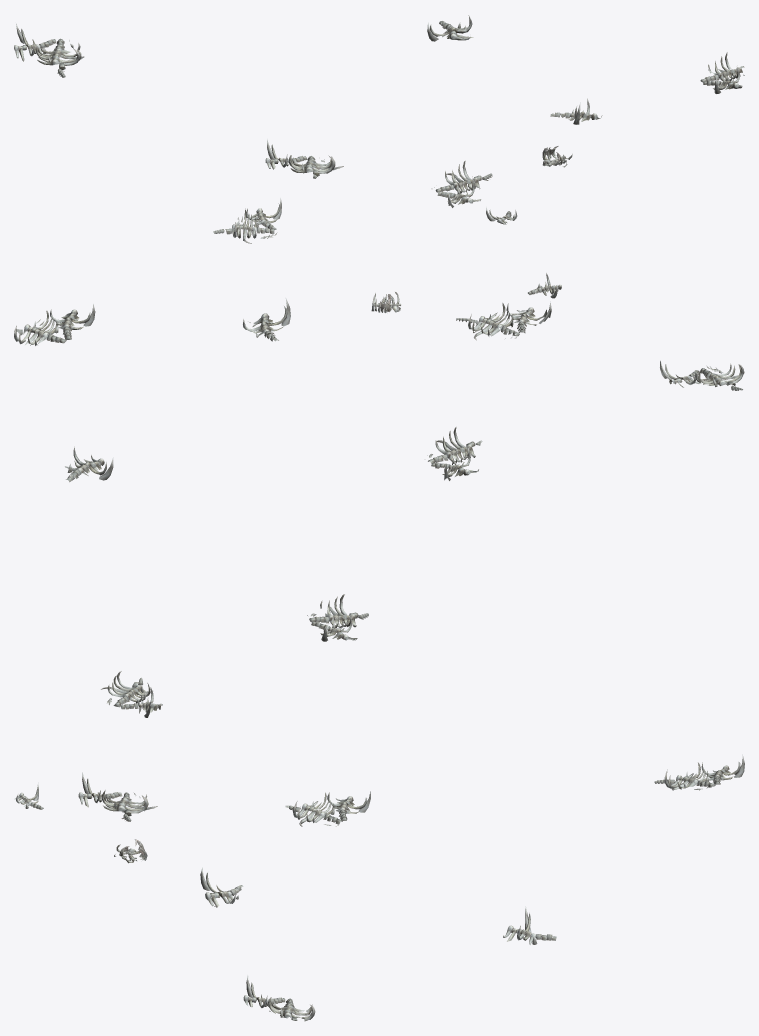
Rendered from S_Build_Snowland235_1.FBX.
3 views of the same model, one above another, from view 1: azimuth 30°, elevation 25°; view 2: azimuth 150°, elevation 25°; view 3: azimuth 270°, elevation 25° (orthographic). The views are drawn at different scales.
Visible parts, largest first — view 1: S_Build_Snowland235_005, S_Build_Snowland235_001, S_Build_Snowland235_002, S_Build_Snowland235_004, S_Build_Snowland235_003, S_Build_Snowland237_003, S_Build_Snowland237_002; view 2: S_Build_Snowland235_003, S_Build_Snowland235_002, S_Build_Snowland235_004, S_Build_Snowland235_005, S_Build_Snowland235_001, S_Build_Snowland237_003, S_Build_Snowland237_002; view 3: S_Build_Snowland235_004, S_Build_Snowland235_002, S_Build_Snowland235_005, S_Build_Snowland235_001, S_Build_Snowland235_003, S_Build_Snowland237_002, S_Build_Snowland237_003.
Part boxes in pixels (<box>): S_Build_Snowland235_005: <box>14,23,84,77</box>; S_Build_Snowland235_001: <box>213,198,281,243</box>; S_Build_Snowland235_002: <box>431,160,492,207</box>; S_Build_Snowland235_004: <box>265,139,343,178</box>; S_Build_Snowland235_003: <box>700,52,744,93</box>; S_Build_Snowland237_003: <box>427,15,473,41</box>; S_Build_Snowland237_002: <box>550,98,602,124</box>; S_Build_Snowland235_003: <box>14,304,95,345</box>; S_Build_Snowland235_002: <box>456,301,551,340</box>; S_Build_Snowland235_004: <box>427,426,482,480</box>; S_Build_Snowland235_005: <box>307,594,368,641</box>; S_Build_Snowland235_001: <box>660,360,744,390</box>; S_Build_Snowland237_003: <box>65,446,113,482</box>; S_Build_Snowland237_002: <box>243,298,290,341</box>; S_Build_Snowland235_004: <box>285,791,370,826</box>; S_Build_Snowland235_002: <box>78,772,157,821</box>; S_Build_Snowland235_005: <box>654,754,744,790</box>; S_Build_Snowland235_001: <box>101,671,162,717</box>; S_Build_Snowland235_003: <box>243,975,315,1021</box>; S_Build_Snowland237_002: <box>200,867,243,907</box>; S_Build_Snowland237_003: <box>503,906,556,944</box>.
Size of the model in its own units: 11683 by 11860 by 1241.
